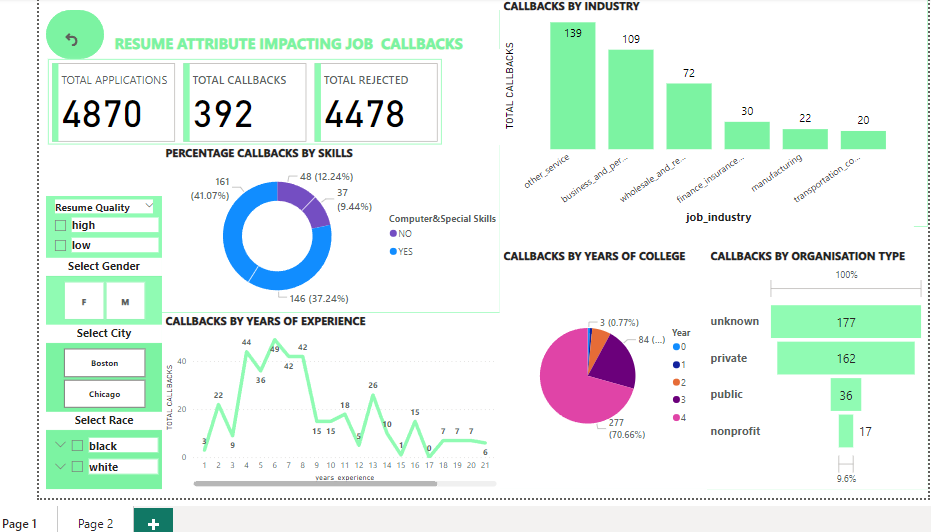

The dashboard page shown, as its layout file describes it:
{"tool":"powerbi","page":{"name":"Page 1","canvas":[1280,720],"ordinal":0},"visuals":[{"type":"shape","box":[10.5,17.6,653.2,56.2],"z":0},{"type":"textbox","box":[10.7,17.9,652.5,69.7],"z":1000},{"type":"shape","box":[10.1,17.3,83.5,70.6],"z":2000},{"type":"slicer","title":"Select Gender","fields":{"Values":["Sheet1.gender"]},"box":[10.1,374.4,167,96.5],"z":3000},{"type":"slicer","title":"Select City","fields":{"Values":["Sheet1.job_city"]},"box":[10.1,470.9,167,125.3],"z":4000},{"type":"slicer","title":"Select Race","fields":{"Values":["Sheet1.race","Sheet1.resume_quality"]},"box":[10.1,596.2,167,110.9],"z":5000},{"type":"textbox","box":[197.3,387.4,270.7,83.5],"z":8000},{"type":"actionButton","box":[33.1,46.1,30.2,27.4],"z":9000},{"type":"cardVisual","fields":{"Data":["Sheet1.TOTAL APPLICATIONS","Sheet1.TOTAL CALLBACKS","Sheet1.TOTAL REJECTED"]},"box":[12.3,88,566.9,123.2],"z":10000},{"type":"shape","box":[177.8,211.3,485.9,241.2],"z":11000},{"type":"donutChart","title":"PERCENTAGE CALLBACKS BY SKILLS","fields":{"Y":["Sheet1.TOTAL CALLBACKS"],"Category":["Sheet1.computer_skills"],"Series":["Sheet1.special_skills"]},"box":[177.8,211.3,485.9,241.2],"z":12000},{"type":"shape","box":[177.8,452.5,485.9,255.3],"z":13000},{"type":"lineChart","title":"CALLBACKS BY YEARS OF EXPERIENCE","fields":{"Y":["Sheet1.TOTAL CALLBACKS"],"Category":["Sheet1.years_experience"]},"box":[177.1,453.6,486.7,254.9],"z":14000},{"type":"shape","box":[663.8,0,616.3,329.8],"z":15000},{"type":"clusteredColumnChart","title":"CALLBACKS BY INDUSTRY","fields":{"Category":["Sheet1.job_industry"],"Y":["Sheet1.TOTAL CALLBACKS"]},"box":[663.8,0,596.2,329.8],"z":16000},{"type":"shape","box":[961.9,360,318.2,348.5],"z":17000},{"type":"funnel","title":"CALLBACKS BY ORGANISATION TYPE","fields":{"Y":["Sheet1.TOTAL CALLBACKS"],"Category":["Sheet1.job_ownership"]},"box":[961.9,360,318.2,348.5],"z":18000},{"type":"shape","box":[663.8,360,298.1,347],"z":19000},{"type":"pieChart","title":" CALLBACKS BY YEARS OF COLLEGE","fields":{"Y":["Sheet1.TOTAL CALLBACKS"],"Category":["Sheet1.years_college"]},"box":[663.8,360,299.5,347],"z":20000},{"type":"slicer","fields":{"Values":["Sheet1.resume_quality"]},"box":[10.1,285.1,167,89.3],"z":21000}]}

Visuals, with their boxes on the page's 1280x720 design canvas (x1, y1, x2, y2). These are canvas units, not pixel positions in the 931x532 screenshot, which may show the page scaled, cropped or inside an application window:
shape: select_region(10, 18, 664, 74)
textbox: select_region(11, 18, 663, 88)
shape: select_region(10, 17, 94, 88)
"Select Gender" slicer: select_region(10, 374, 177, 471)
"Select City" slicer: select_region(10, 471, 177, 596)
"Select Race" slicer: select_region(10, 596, 177, 707)
textbox: select_region(197, 387, 468, 471)
actionButton: select_region(33, 46, 63, 74)
cardVisual - Sheet1.TOTAL APPLICATIONS x Sheet1.TOTAL CALLBACKS: select_region(12, 88, 579, 211)
shape: select_region(178, 211, 664, 452)
"PERCENTAGE CALLBACKS BY SKILLS" donutChart: select_region(178, 211, 664, 452)
shape: select_region(178, 452, 664, 708)
"CALLBACKS BY YEARS OF EXPERIENCE" lineChart: select_region(177, 454, 664, 708)
shape: select_region(664, 0, 1280, 330)
"CALLBACKS BY INDUSTRY" clusteredColumnChart: select_region(664, 0, 1260, 330)
shape: select_region(962, 360, 1280, 708)
"CALLBACKS BY ORGANISATION TYPE" funnel: select_region(962, 360, 1280, 708)
shape: select_region(664, 360, 962, 707)
" CALLBACKS BY YEARS OF COLLEGE" pieChart: select_region(664, 360, 963, 707)
slicer - Sheet1.resume_quality: select_region(10, 285, 177, 374)
